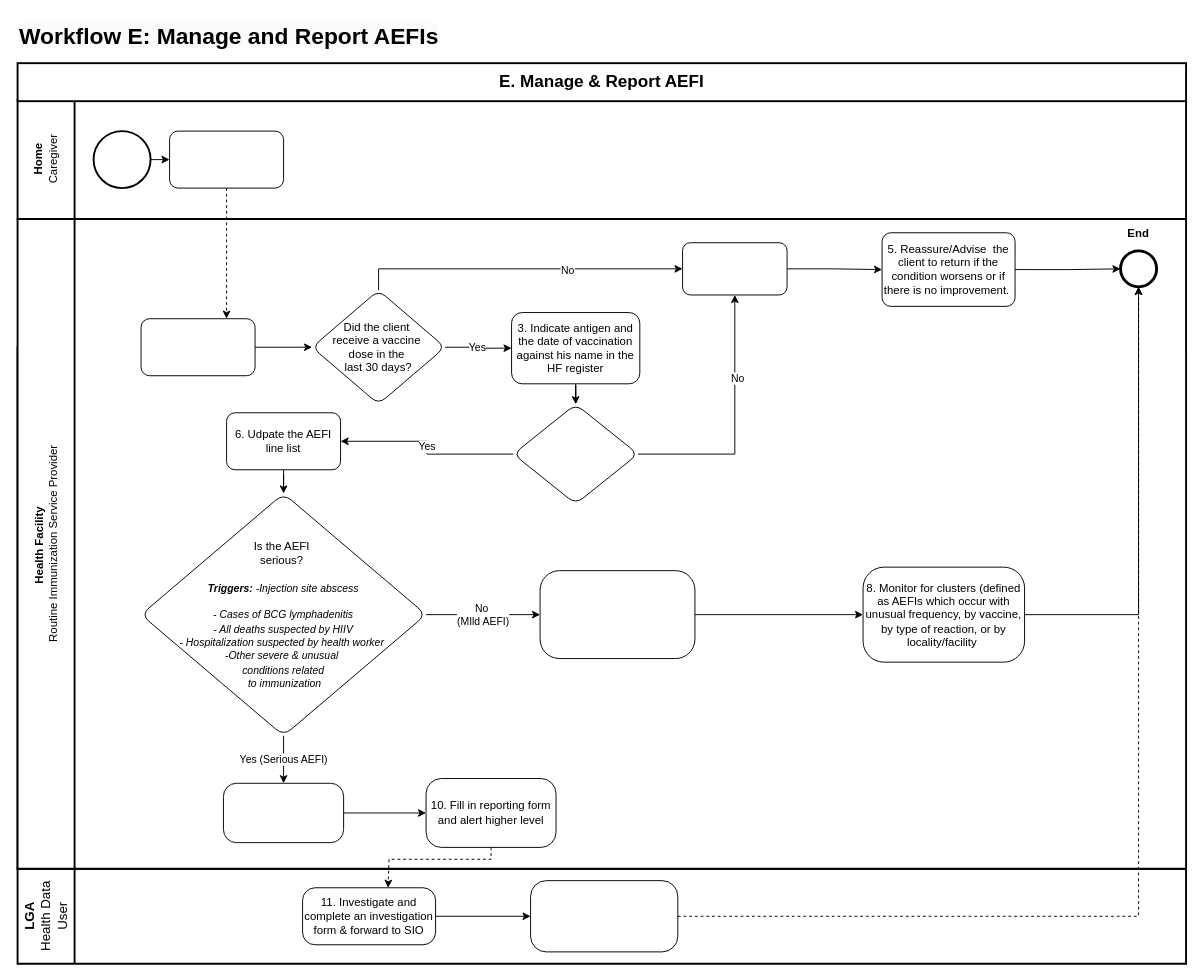
This 1203x980 diagram has some shape labels left out. Each missing label, with the box of its shape:
1. Report of AEFI: (169, 130, 284, 188)
12. Evacuate to the referral hospital (Reporting Form): (530, 880, 678, 952)
2. Client presents AEFI case to the Health Facility: (140, 318, 255, 376)
4. Conduct casual care: (682, 242, 787, 295)
7. Treat and advise client to return if the condition worsens or no improvement: (539, 570, 695, 659)
9. RISP alerts and manages the case: (222, 782, 344, 843)
Does the case fit definition of AEFI: (512, 403, 638, 504)
